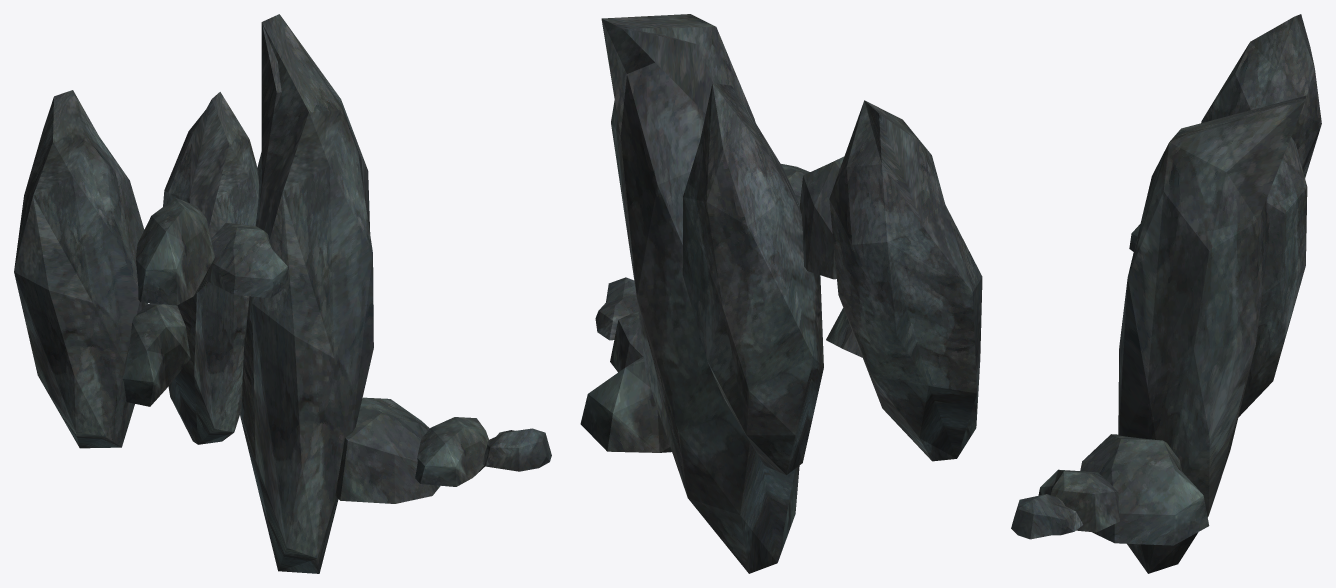
File: object_rubble09.fbx
3 views of the same model, side by side, from view 1: azimuth 30°, elevation 25°; view 2: azimuth 150°, elevation 25°; view 3: azimuth 270°, elevation 25° (orthographic). The views are drawn at different scales.
Parts seen in each view (by area): view 1: obj1.021; view 2: obj1.021; view 3: obj1.021.
Part boxes in pixels (box(x1,y1,x2,y2)): obj1.021: box(14, 14, 551, 573); obj1.021: box(580, 14, 982, 573); obj1.021: box(1011, 14, 1321, 573).
Size of the model in its own units: 11.03 by 12.33 by 7.05.
